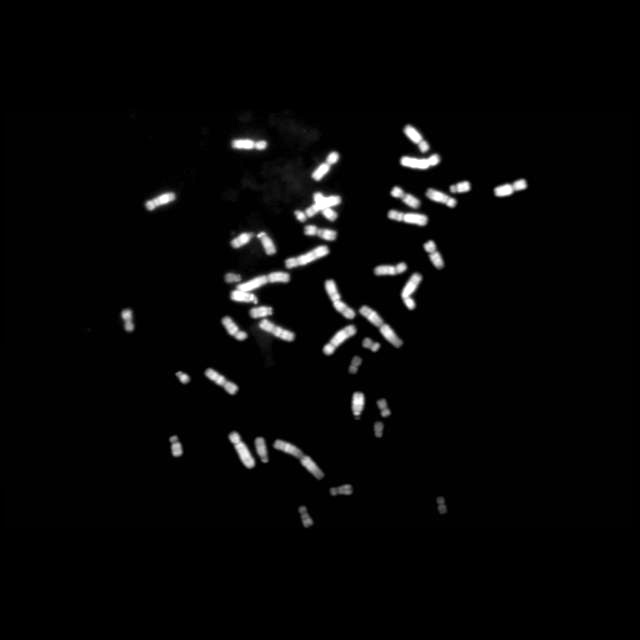chromosome: (274, 440, 324, 480), (361, 306, 404, 346), (325, 279, 355, 319), (323, 324, 357, 356), (236, 273, 290, 293), (228, 432, 256, 468), (286, 245, 328, 269), (258, 318, 296, 342), (312, 150, 340, 182), (205, 368, 238, 394), (402, 272, 422, 310), (404, 125, 430, 153), (314, 192, 338, 222), (306, 196, 340, 217), (388, 209, 427, 227), (400, 153, 440, 170), (390, 187, 420, 209), (221, 316, 247, 340), (426, 188, 456, 208), (494, 178, 526, 196), (144, 192, 176, 210), (424, 240, 444, 268), (374, 260, 406, 276), (304, 225, 336, 241), (232, 139, 266, 151), (257, 232, 275, 254), (230, 290, 258, 304), (232, 232, 254, 248), (256, 436, 268, 464), (351, 393, 365, 415), (299, 506, 313, 528), (377, 399, 391, 418), (249, 306, 271, 318), (122, 309, 134, 331), (348, 356, 362, 374), (331, 484, 352, 496), (170, 436, 182, 456), (363, 338, 379, 352), (451, 181, 469, 193), (176, 370, 190, 384), (224, 273, 242, 283), (294, 210, 306, 222), (438, 498, 447, 514), (374, 422, 384, 436)
